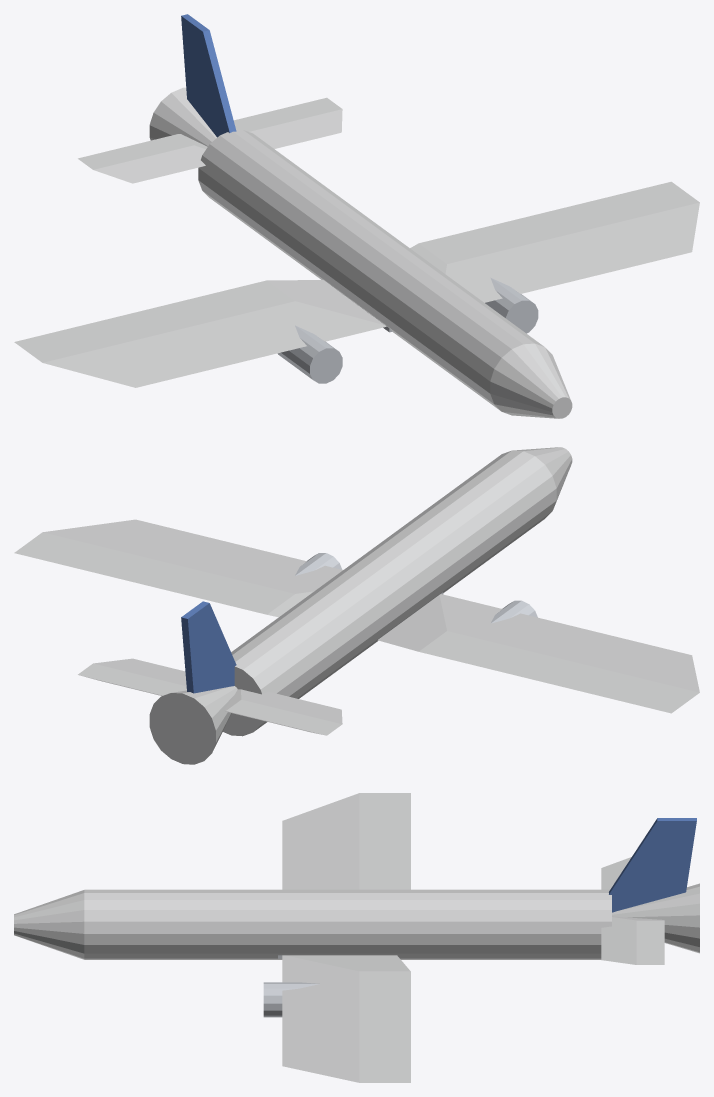
Rendered from synth_airliner.glb.
3 views of the same model, one above another, from view 1: azimuth 30°, elevation 25°; view 2: azimuth 150°, elevation 25°; view 3: azimuth 270°, elevation 25° (orthographic). The views are drawn at different scales.
Bounding box in the file's own units: 39 × 9.6 × 39.
